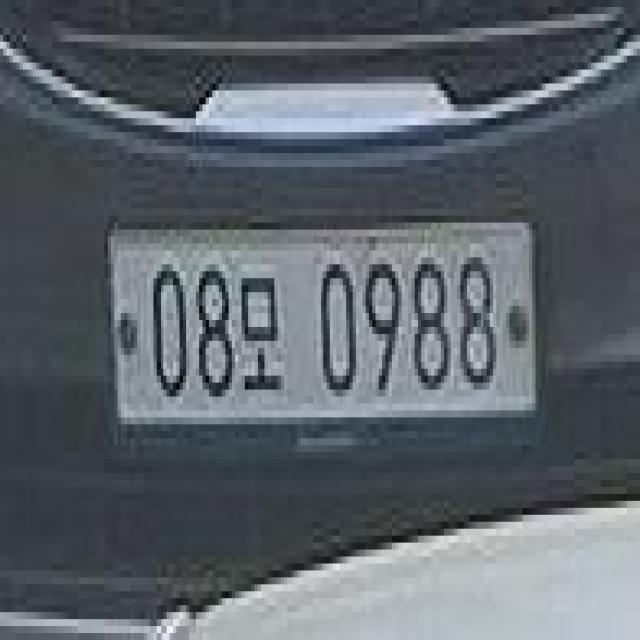illegal_plate: (104, 207, 542, 460)
